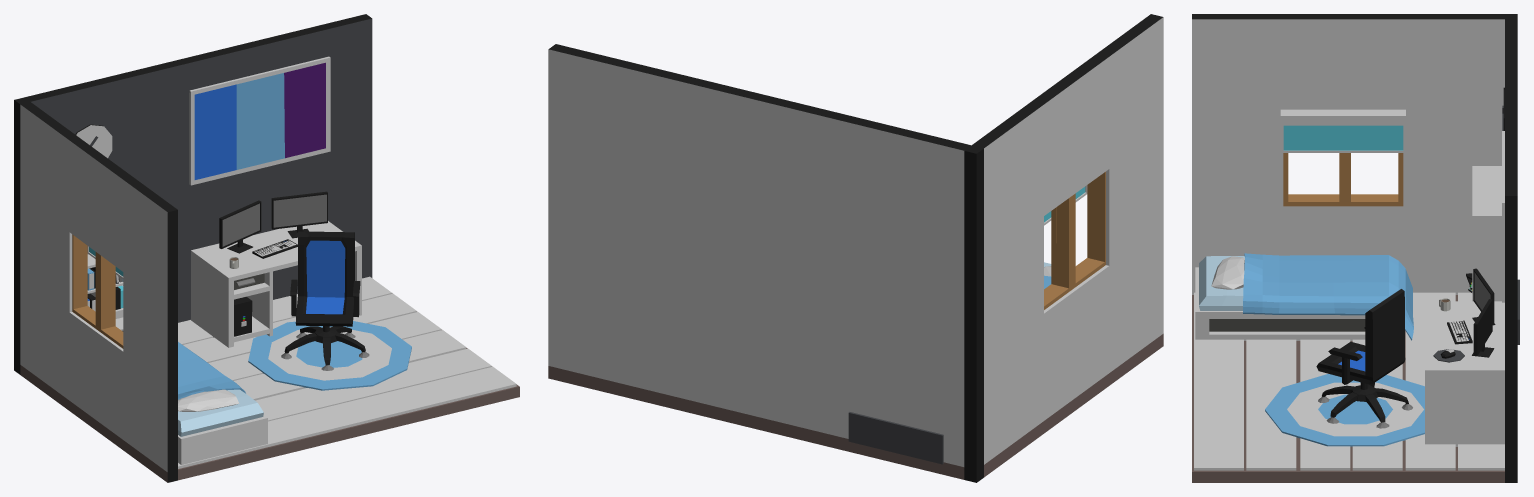
File: Bedroom - blue.fbx
3 renders of one model, left to right at view 1: azimuth 30°, elevation 25°; view 2: azimuth 150°, elevation 25°; view 3: azimuth 270°, elevation 25°, orthographic. The views are drawn at different scales.
Visible parts, largest first — view 1: Window, Wall Paint, PC, Window.002, Chair, Bed, Window.001, TV 2, TV 1, Objects, Watch; view 2: Window, Window.001, Objects; view 3: Window, Bed, PC, Window.001, Window.002, Chair, Objects, TV 2, TV 1, Wall Paint, Keyboard.
Boxes of the visible parts, <box> form: Window: <box>14,14,519,482</box>; Wall Paint: <box>189,56,330,185</box>; PC: <box>191,221,361,347</box>; Window.002: <box>248,321,411,390</box>; Chair: <box>281,231,369,370</box>; Bed: <box>178,342,267,464</box>; Window.001: <box>72,234,123,348</box>; TV 2: <box>271,191,327,238</box>; TV 1: <box>219,200,261,253</box>; Objects: <box>87,254,123,331</box>; Watch: <box>75,124,112,158</box>; Window: <box>548,14,1163,482</box>; Window.001: <box>1044,171,1105,309</box>; Objects: <box>848,412,943,464</box>; Window: <box>1192,14,1517,482</box>; Bed: <box>1195,253,1413,340</box>; PC: <box>1425,301,1504,446</box>; Window.001: <box>1280,109,1405,206</box>; Window.002: <box>1265,374,1424,446</box>; Chair: <box>1316,289,1412,428</box>; Objects: <box>1466,166,1519,344</box>; TV 2: <box>1472,299,1494,357</box>; TV 1: <box>1472,268,1495,325</box>; Wall Paint: <box>1502,131,1504,302</box>; Keyboard: <box>1447,320,1472,344</box>.
Size of the model in its own units: 290 by 213 by 221.
